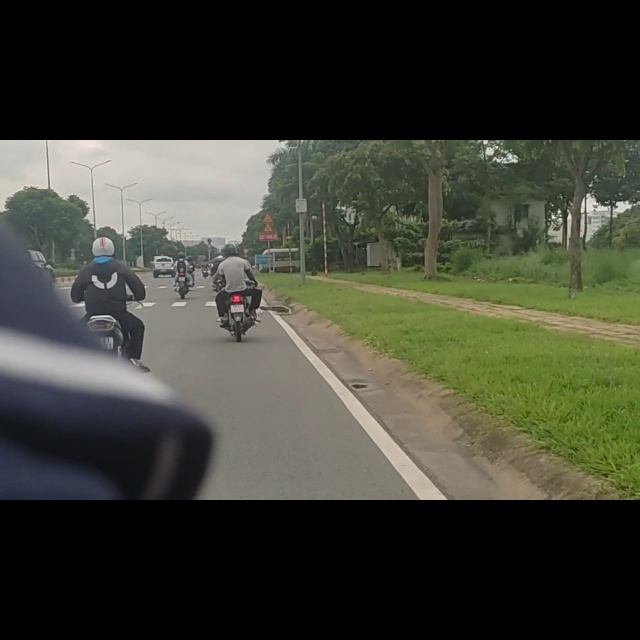bien_cam: (263, 130, 274, 148), (263, 149, 275, 164), (207, 174, 213, 183)
